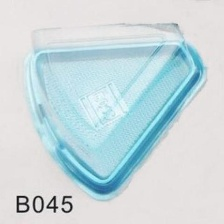plastic_box: (14, 12, 213, 207)
